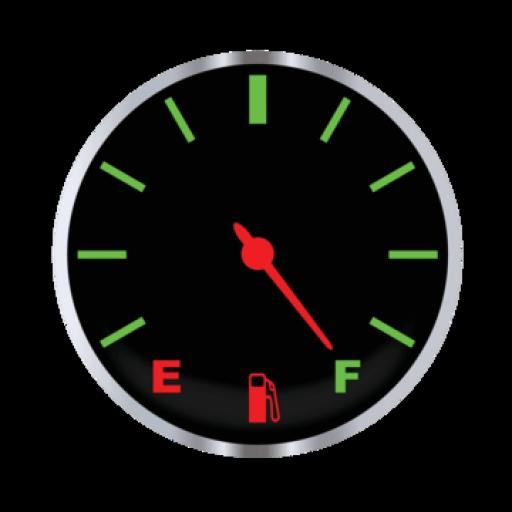empty: (150, 354, 188, 399)
fuel_icon: (244, 366, 282, 431)
full: (331, 354, 365, 397)
guage_area: (27, 37, 483, 473)
needle_center: (219, 210, 295, 284)
needle_tip: (311, 335, 340, 354)
